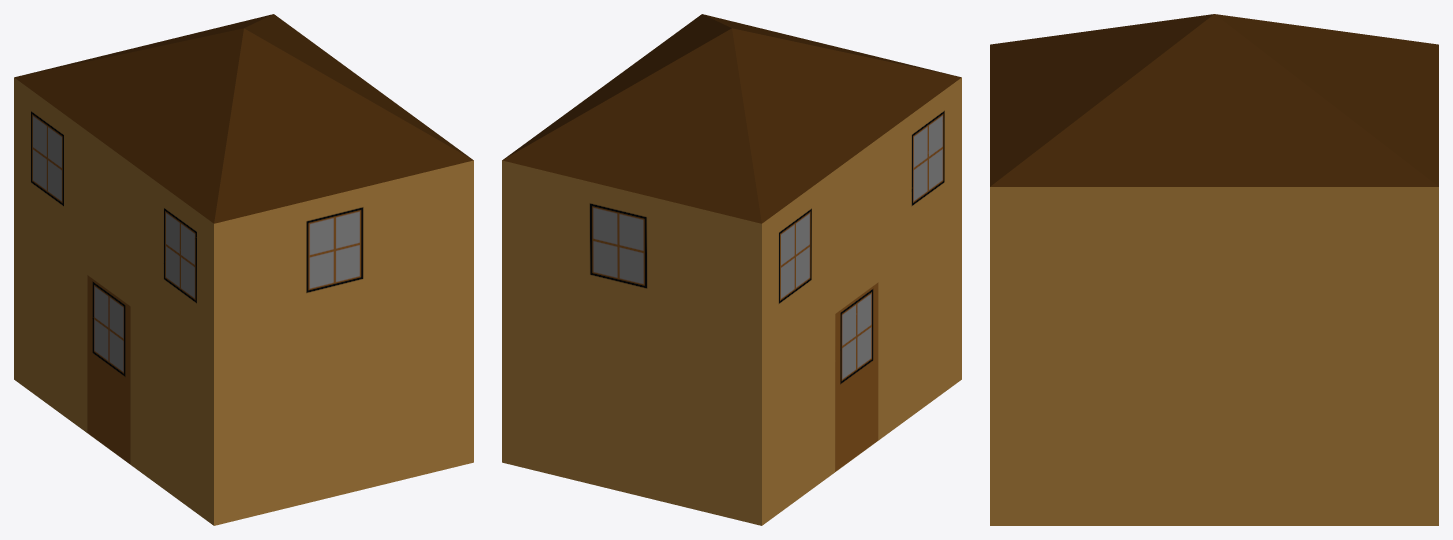
File: House_001.fbx
3 views of the same model, side by side, from view 1: azimuth 30°, elevation 25°; view 2: azimuth 150°, elevation 25°; view 3: azimuth 270°, elevation 25° (orthographic). The views are drawn at different scales.
Visible parts, largest first — view 1: Box001; view 2: Box001; view 3: Box001.
Boxes of the visible parts, x1,y1,x2,y2 form: Box001: (14,14,473,525); Box001: (502,14,961,525); Box001: (990,14,1438,525).
Size of the model in its own units: 180 by 260 by 240.
1 material, 1 textured.
